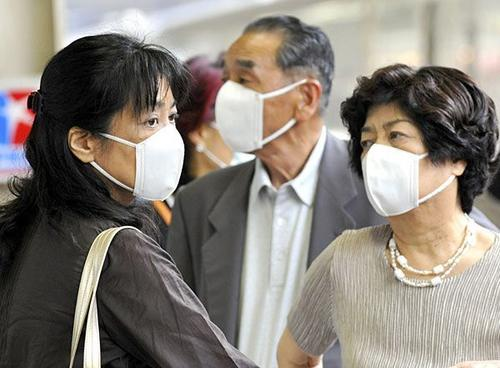yes_mask: (22, 35, 186, 205), (341, 60, 490, 220), (211, 18, 336, 156)
